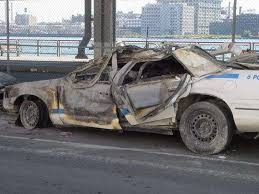Smashed: (1, 45, 213, 132)
